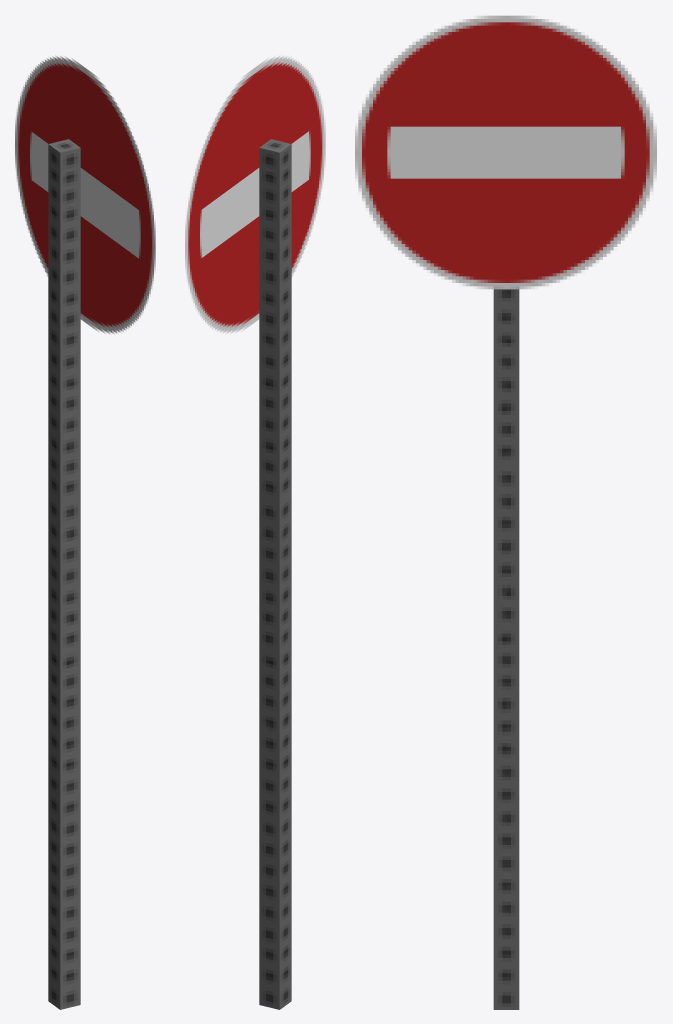
The model's file is sign4.glb.
The picture shows the model from 3 angles, left to right: view 1: azimuth 30°, elevation 25°; view 2: azimuth 150°, elevation 25°; view 3: azimuth 270°, elevation 25°; orthographic projection. The views are drawn at different scales.
Parts seen in each view (by area): view 1: Cube.001, Plane.002; view 2: Cube.001, Plane.002; view 3: Plane.002, Cube.001.
Part boxes in pixels (<box>): Cube.001: <box>48,139,80,1009</box>; Plane.002: <box>15,55,155,334</box>; Cube.001: <box>259,139,291,1009</box>; Plane.002: <box>185,55,325,333</box>; Plane.002: <box>355,15,656,289</box>; Cube.001: <box>493,287,519,1009</box>.
Bounding box in the file's own units: 0.075 × 2.18 × 0.6.
Materials: 1 (1 with a texture image).
